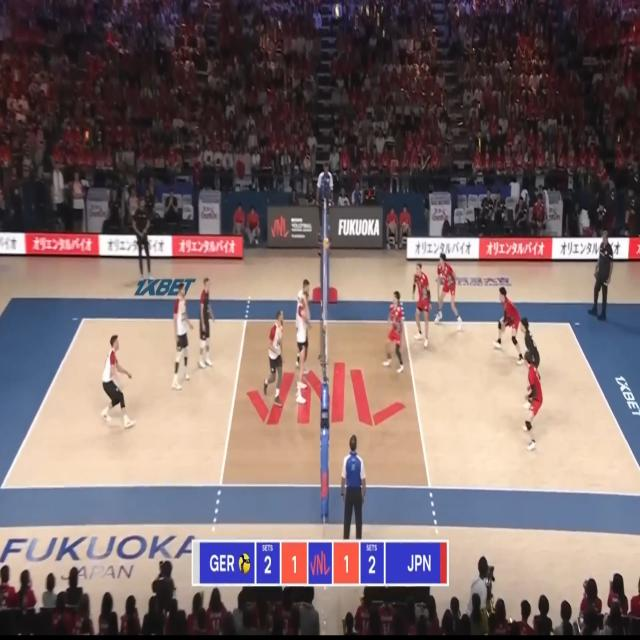ball: (323, 237, 330, 250)
